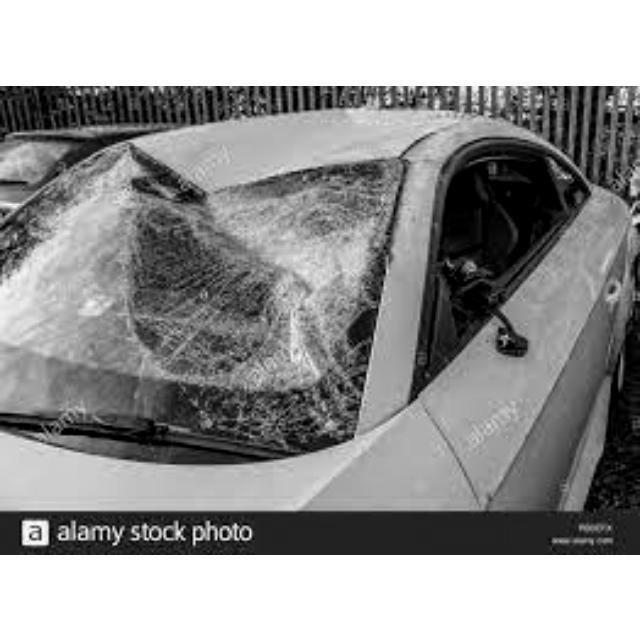Front-windscreen-damage: (1, 147, 426, 452)
